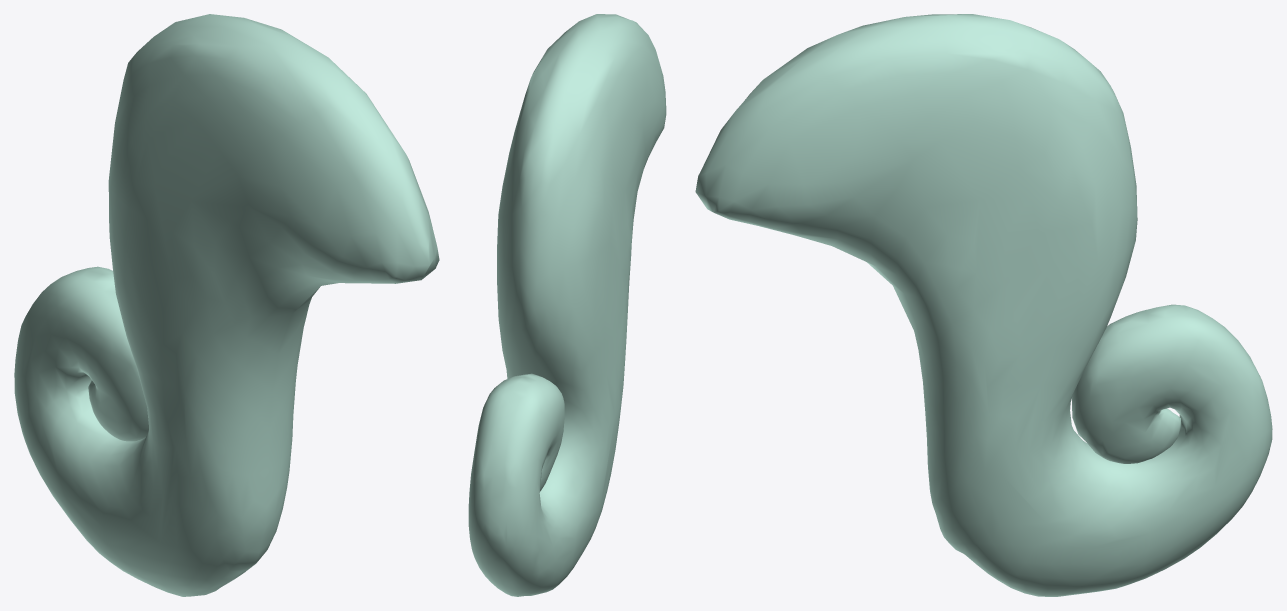
Rendered from Tail_16.fbx.
3 views of the same model, side by side, from view 1: azimuth 30°, elevation 25°; view 2: azimuth 150°, elevation 25°; view 3: azimuth 270°, elevation 25° (orthographic). The views are drawn at different scales.
Parts seen in each view (by area): view 1: Tail_16; view 2: Tail_16; view 3: Tail_16.
Part boxes in pixels (x1,y1,x2,y2): Tail_16: (14, 14, 439, 596); Tail_16: (468, 14, 666, 596); Tail_16: (695, 14, 1272, 596).
Bounding box in the file's own units: 57 × 198 × 176.
